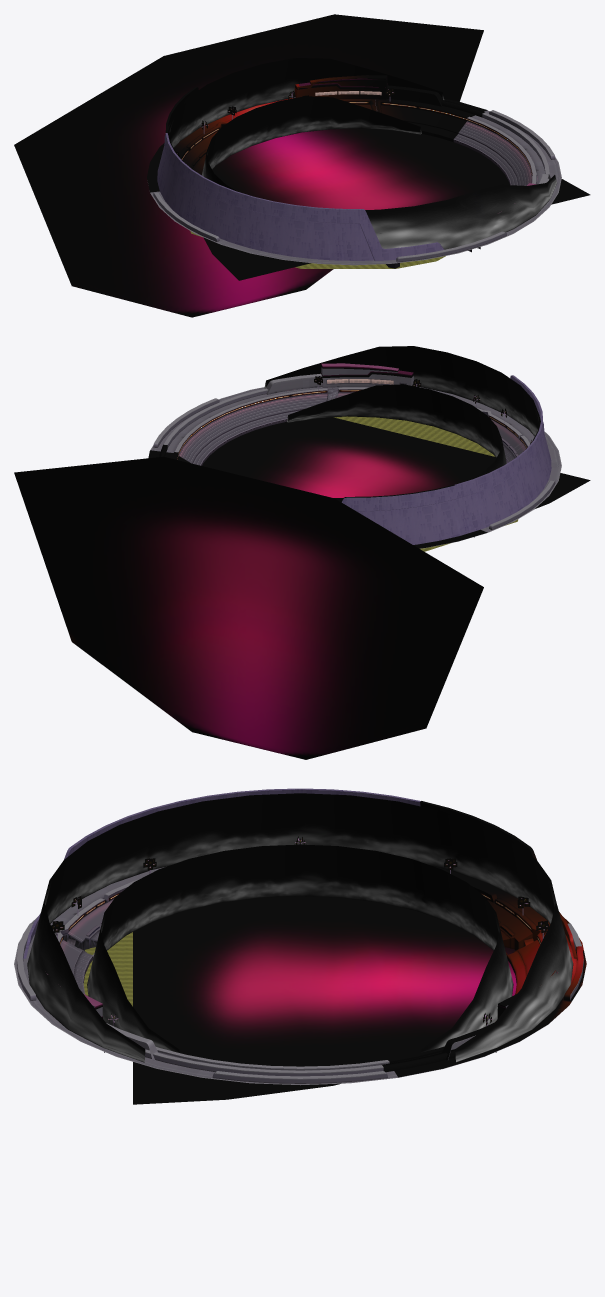
File: breadStationMainObject_shieldDown.fbx
The picture shows the model from 3 angles, top to bottom: view 1: azimuth 30°, elevation 25°; view 2: azimuth 150°, elevation 25°; view 3: azimuth 270°, elevation 25°; orthographic projection. The views are drawn at different scales.
Parts seen in each view (by area): view 1: breadStationBackgroundGlowGeo, breadStationSurfaceGlowGeo, breadStationFogScrollingShieldDownGeo, breadStationPhysicalWallShieldDownGeo, breadStationRingShieldDownGeo, breadStationGrassFogScrollingShieldDownGeo, breadStationViewingDecksShieldDownGeo, breadStationGroundShieldDownGeo; view 2: breadStationBackgroundGlowGeo, breadStationSurfaceGlowGeo, breadStationPhysicalWallShieldDownGeo, breadStationRingShieldDownGeo, breadStationFogScrollingShieldDownGeo, breadStationGrassFogScrollingShieldDownGeo, breadStationViewingDecksShieldDownGeo, breadStationGroundShieldDownGeo; view 3: breadStationSurfaceGlowGeo, breadStationFogScrollingShieldDownGeo, breadStationGrassFogScrollingShieldDownGeo, breadStationRingShieldDownGeo, breadStationPhysicalWallShieldDownGeo, breadStationGroundShieldDownGeo, breadStationViewingDecksShieldDownGeo.
Part boxes in pixels (bbox=[...]): breadStationBackgroundGlowGeo: bbox=[14, 14, 483, 317]; breadStationSurfaceGlowGeo: bbox=[147, 75, 590, 280]; breadStationFogScrollingShieldDownGeo: bbox=[168, 58, 556, 249]; breadStationPhysicalWallShieldDownGeo: bbox=[157, 133, 444, 260]; breadStationRingShieldDownGeo: bbox=[150, 100, 561, 268]; breadStationGrassFogScrollingShieldDownGeo: bbox=[202, 96, 421, 191]; breadStationViewingDecksShieldDownGeo: bbox=[295, 77, 550, 213]; breadStationGroundShieldDownGeo: bbox=[190, 231, 445, 268]; breadStationBackgroundGlowGeo: bbox=[14, 456, 483, 759]; breadStationSurfaceGlowGeo: bbox=[148, 417, 590, 548]; breadStationPhysicalWallShieldDownGeo: bbox=[341, 375, 551, 544]; breadStationRingShieldDownGeo: bbox=[150, 386, 561, 548]; breadStationFogScrollingShieldDownGeo: bbox=[264, 346, 540, 501]; breadStationGrassFogScrollingShieldDownGeo: bbox=[287, 384, 506, 479]; breadStationViewingDecksShieldDownGeo: bbox=[265, 363, 413, 394]; breadStationGroundShieldDownGeo: bbox=[334, 416, 518, 551]; breadStationSurfaceGlowGeo: bbox=[133, 801, 586, 1104]; breadStationFogScrollingShieldDownGeo: bbox=[27, 793, 573, 1062]; breadStationGrassFogScrollingShieldDownGeo: bbox=[87, 844, 513, 1052]; breadStationRingShieldDownGeo: bbox=[14, 867, 583, 1085]; breadStationPhysicalWallShieldDownGeo: bbox=[23, 788, 420, 958]; breadStationGroundShieldDownGeo: bbox=[83, 932, 132, 1006]; breadStationViewingDecksShieldDownGeo: bbox=[46, 971, 557, 1060].
Size of the model in its own units: 164 by 89.43 by 126.
